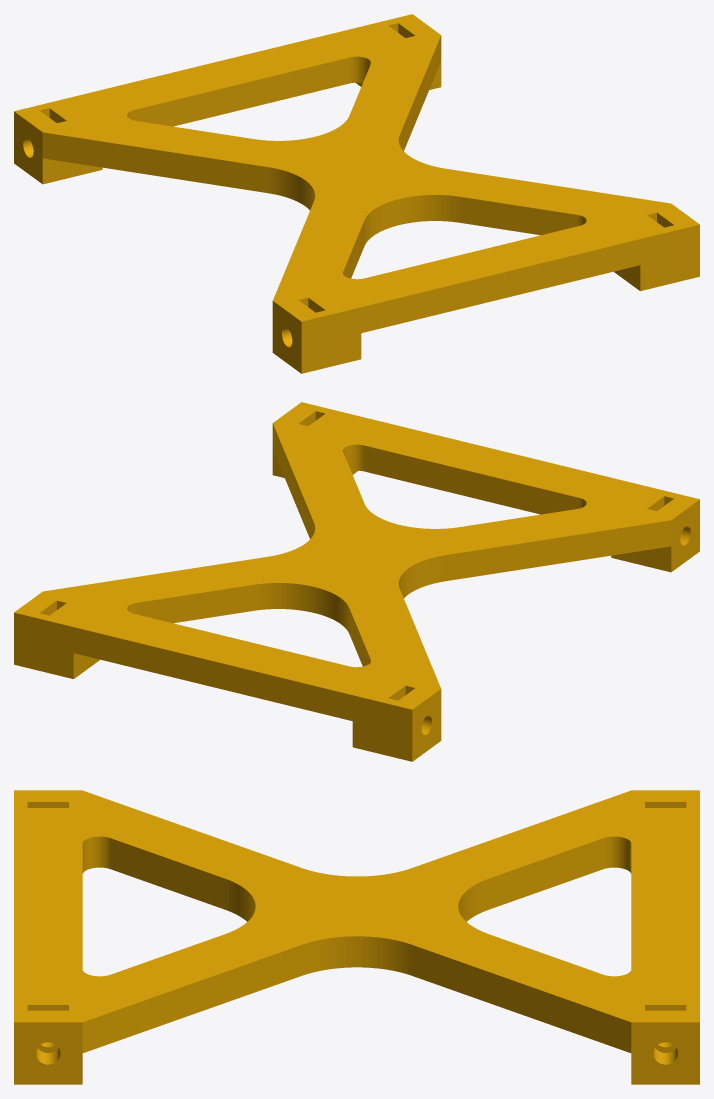
3 renders of one model, top to bottom at view 1: azimuth 30°, elevation 25°; view 2: azimuth 150°, elevation 25°; view 3: azimuth 270°, elevation 25°, orthographic. The views are drawn at different scales.
Visible parts, largest first — view 1: Front; view 2: Front; view 3: Front.
Part boxes in pixels (x1,y1,x2,y2): Front: [14, 14, 699, 373]; Front: [14, 402, 699, 761]; Front: [14, 790, 699, 1084].
Bounding box in the file's own units: 80 × 10 × 100.
